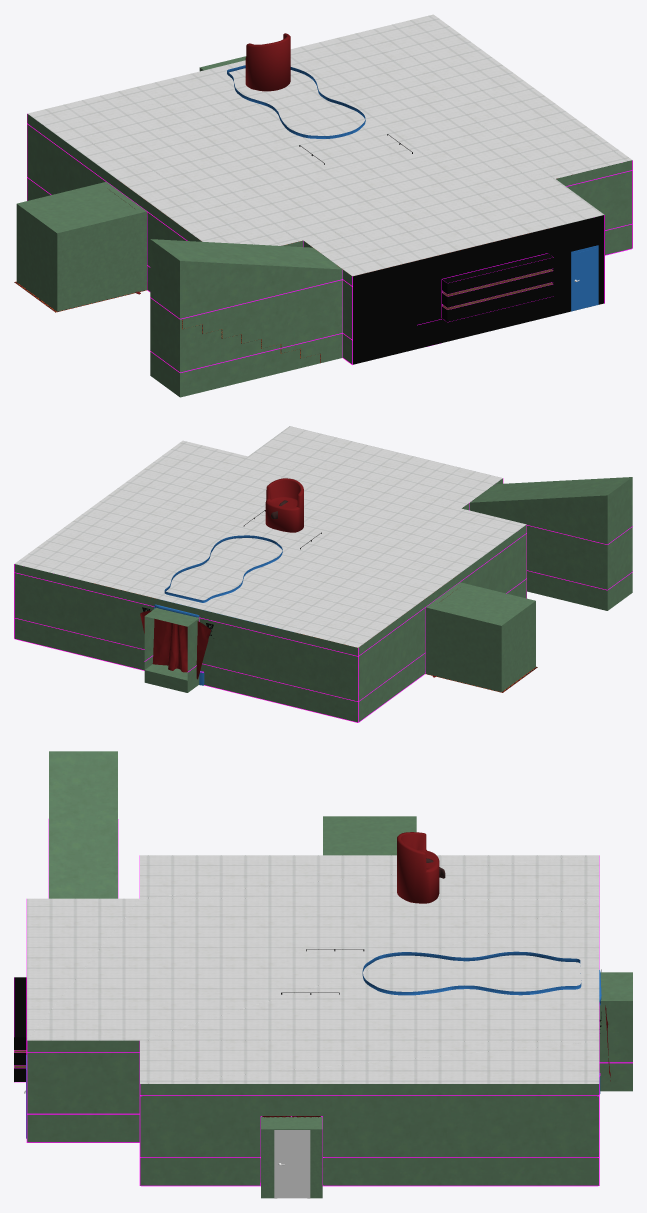
File: stripclub.lite.glb
The picture shows the model from 3 angles, top to bottom: view 1: azimuth 30°, elevation 25°; view 2: azimuth 150°, elevation 25°; view 3: azimuth 270°, elevation 25°; orthographic projection. The views are drawn at different scales.
Parts seen in each view (by area): view 1: ceiling.001, walls, walls.001, chair, walls.005, Door, Circle.001; view 2: ceiling.001, walls, Plane.001, walls.005, chair, Circle.001; view 3: ceiling.001, walls, walls.005, chair, Door.001, Circle.001, walls.001, DoorFrame.001.
Boxes of the visible parts, x1=… form: ceiling.001: x1=27, y1=14, x2=632, y2=276; walls: x1=16, y1=56, x2=632, y2=397; walls.001: x1=353, y1=215, x2=604, y2=364; chair: x1=245, y1=33, x2=290, y2=91; walls.005: x1=27, y1=113, x2=632, y2=372; Door: x1=573, y1=248, x2=596, y2=310; Circle.001: x1=227, y1=65, x2=365, y2=138; ceiling.001: x1=14, y1=426, x2=526, y2=647; walls: x1=14, y1=477, x2=632, y2=722; Plane.001: x1=140, y1=610, x2=210, y2=679; walls.005: x1=14, y1=478, x2=632, y2=722; chair: x1=265, y1=478, x2=303, y2=532; Circle.001: x1=154, y1=535, x2=282, y2=617; ceiling.001: x1=27, y1=855, x2=599, y2=1083; walls: x1=27, y1=751, x2=632, y2=1198; walls.005: x1=26, y1=819, x2=632, y2=1186; chair: x1=397, y1=832, x2=439, y2=903; Door.001: x1=277, y1=1132, x2=307, y2=1198; Circle.001: x1=362, y1=951, x2=601, y2=1005; walls.001: x1=14, y1=977, x2=26, y2=1081; DoorFrame.001: x1=274, y1=1130, x2=310, y2=1198.
Bounding box in the file's own units: 40.02 × 14.86 × 35.59.
Materials: 53 (25 with a texture image).
